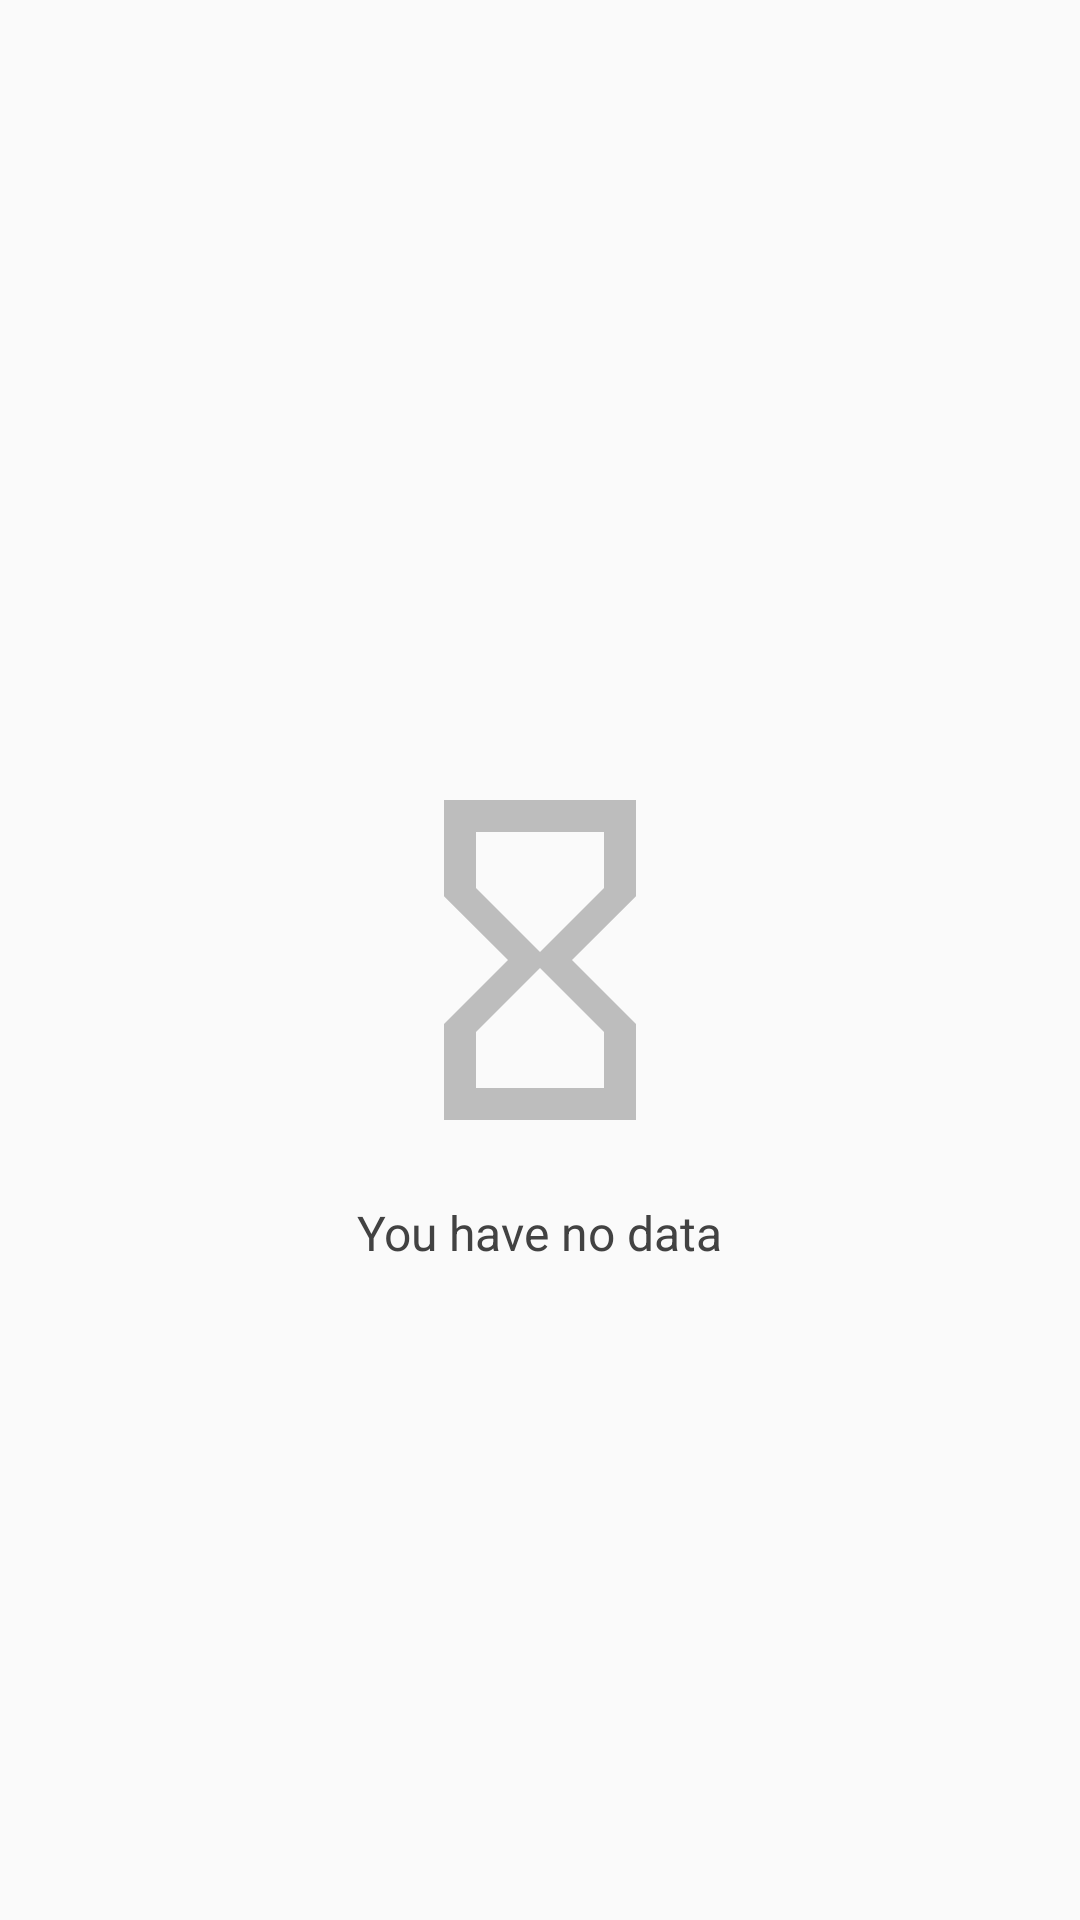

Point at icon controls on the screen. Image size 1080px×1920px, points as (x,y).
hourglass empty: (540,960)
